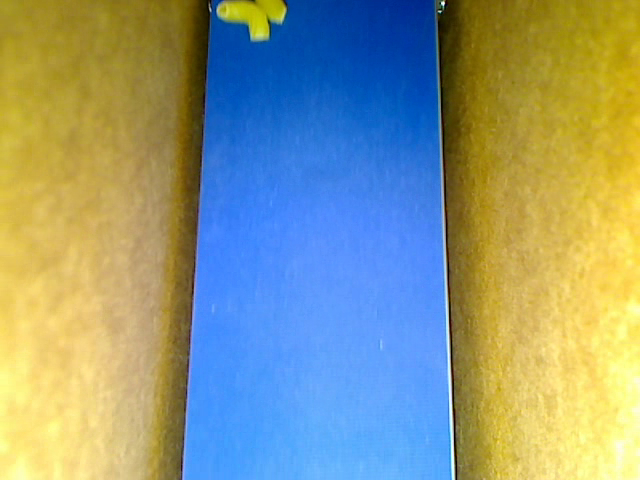elbow: (216, 1, 268, 42)
penne: (254, 1, 287, 25)
